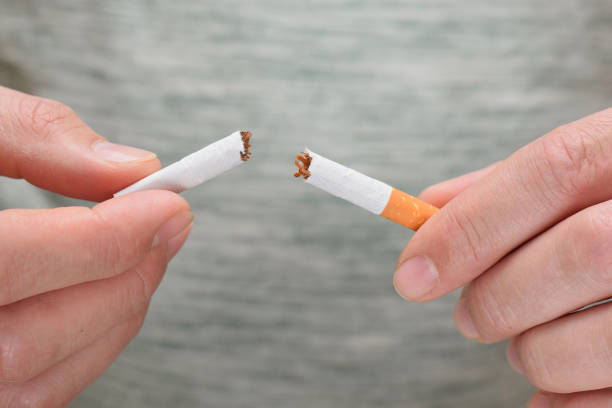cigarette: (293, 148, 440, 231), (111, 129, 252, 198)
